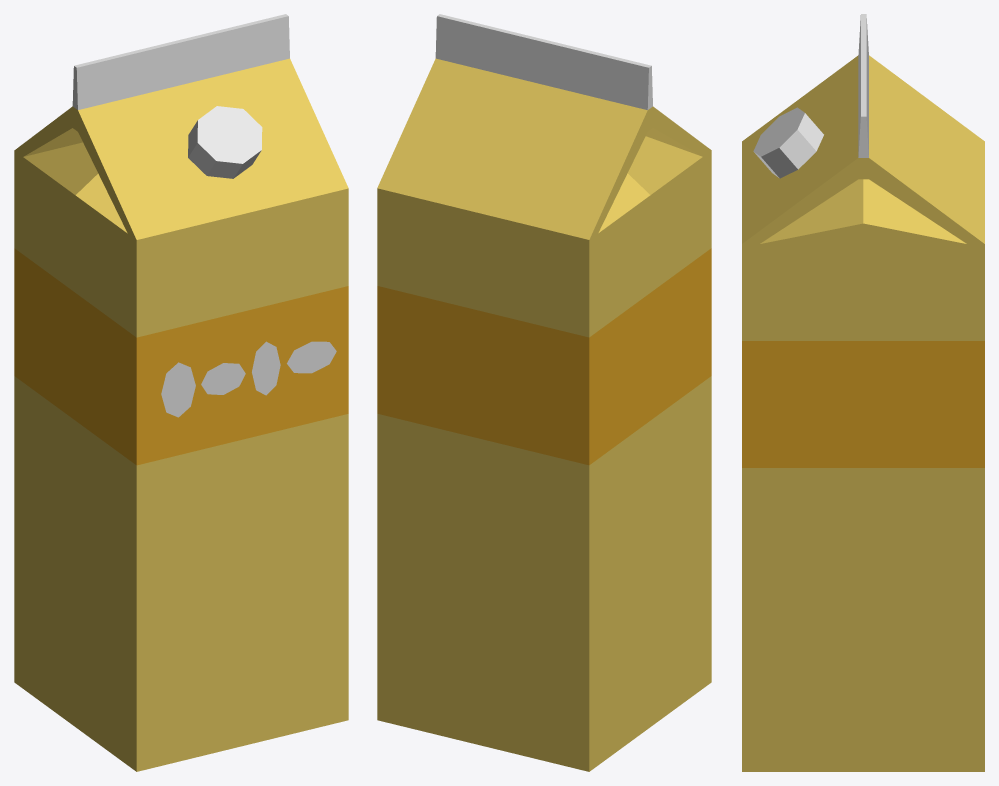
Rendered from Ma_Juice_2.fbx.
The picture shows the model from 3 angles, left to right: view 1: azimuth 30°, elevation 25°; view 2: azimuth 150°, elevation 25°; view 3: azimuth 270°, elevation 25°; orthographic projection.
Visible parts, largest first — view 1: Ma_Juice_2; view 2: Ma_Juice_2; view 3: Ma_Juice_2.
Boxes of the visible parts, left/top/right/bottom form: Ma_Juice_2: left=14, top=14, right=348, bottom=771; Ma_Juice_2: left=377, top=14, right=711, bottom=771; Ma_Juice_2: left=742, top=14, right=984, bottom=771.
Bounding box in the file's own units: 74.74 × 75.33 × 222.
